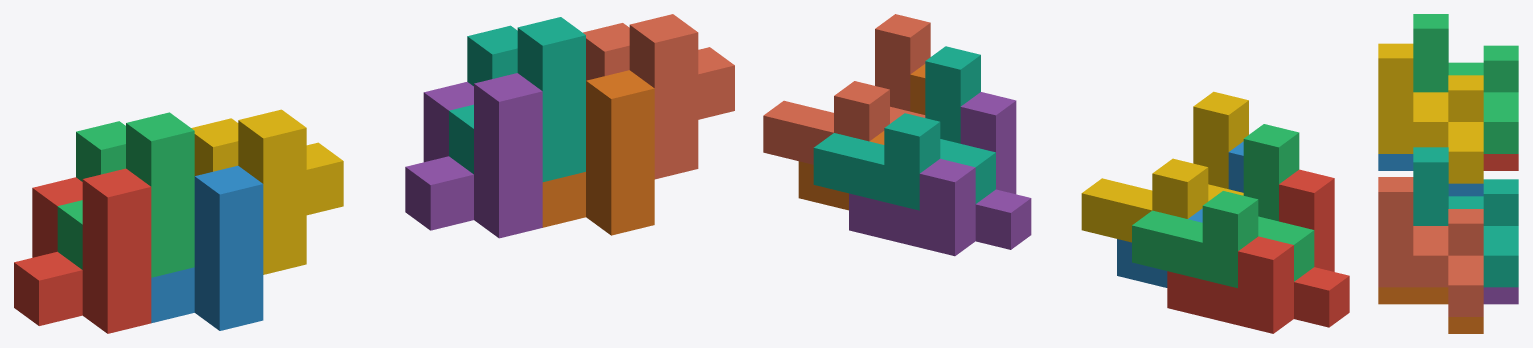
The model's file is tiling.obj.
3 renders of one model, left to right at view 1: azimuth 30°, elevation 25°; view 2: azimuth 150°, elevation 25°; view 3: azimuth 270°, elevation 25°, orthographic. The views are drawn at different scales.
Parts seen in each view (by area): view 1: copy_1_domain_1, copy_1_domain_5, copy_1_domain_8, copy_1_domain_4, copy_1_domain_2, copy_1_domain_6, copy_1_domain_3, copy_1_domain_7; view 2: copy_1_domain_5, copy_1_domain_1, copy_1_domain_3, copy_1_domain_7, copy_1_domain_4, copy_1_domain_8, copy_1_domain_6, copy_1_domain_2; view 3: copy_1_domain_8, copy_1_domain_4, copy_1_domain_3, copy_1_domain_7, copy_1_domain_6, copy_1_domain_2, copy_1_domain_5, copy_1_domain_1.
Boxes of the visible parts, <box> form: copy_1_domain_1: <box>14,168,151,333</box>; copy_1_domain_5: <box>405,73,542,238</box>; copy_1_domain_8: <box>583,14,734,179</box>; copy_1_domain_4: <box>191,109,343,274</box>; copy_1_domain_2: <box>151,165,263,330</box>; copy_1_domain_6: <box>542,70,654,235</box>; copy_1_domain_3: <box>57,112,194,277</box>; copy_1_domain_7: <box>449,17,585,181</box>; copy_1_domain_5: <box>849,92,1031,256</box>; copy_1_domain_1: <box>1167,169,1349,333</box>; copy_1_domain_3: <box>1132,124,1314,288</box>; copy_1_domain_7: <box>813,46,995,210</box>; copy_1_domain_4: <box>1081,91,1248,242</box>; copy_1_domain_8: <box>763,14,930,164</box>; copy_1_domain_6: <box>798,64,925,210</box>; copy_1_domain_2: <box>1117,141,1243,287</box>; copy_1_domain_8: <box>1378,177,1483,316</box>; copy_1_domain_4: <box>1378,43,1483,183</box>; copy_1_domain_3: <box>1413,14,1518,153</box>; copy_1_domain_7: <box>1413,147,1518,287</box>; copy_1_domain_6: <box>1378,287,1483,333</box>; copy_1_domain_2: <box>1378,154,1483,196</box>; copy_1_domain_5: <box>1483,287,1518,304</box>; copy_1_domain_1: <box>1483,154,1518,170</box>.
Bounding box in the file's own units: 16 × 4 × 4.
